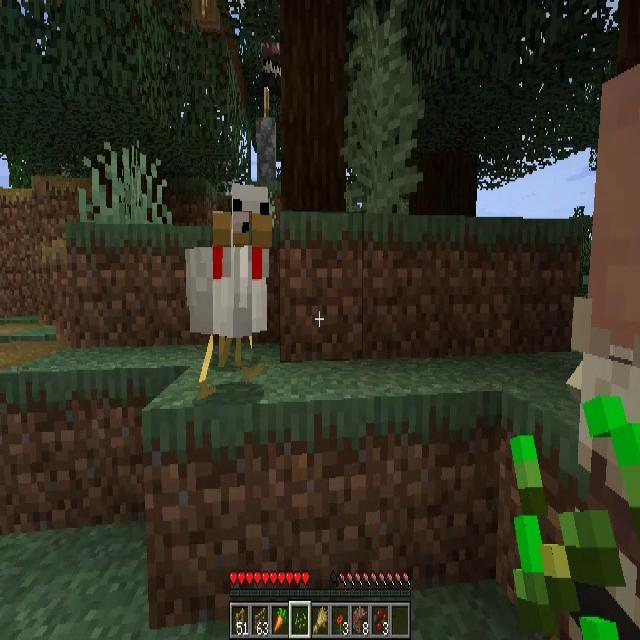duck: (186, 188, 274, 392), (213, 211, 252, 367)
people: (566, 62, 640, 640)
